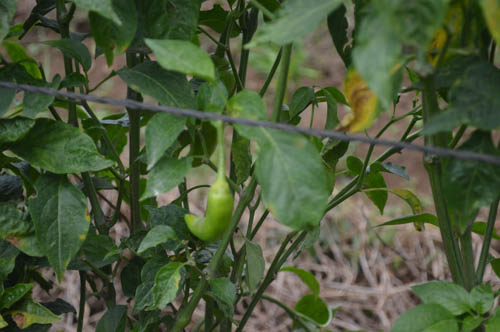ChiliPepper: (184, 185, 235, 248)
